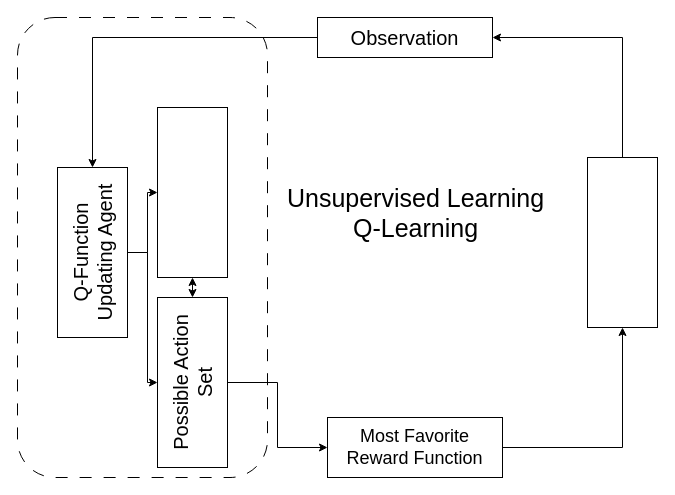
The diagram is 675 pixels wide and 495 high, and some of its shapes have lost their labels. Here are the shapes that lost their labels. From the top down, the centre of each, then its label:
At pixel 192 192: "Reward/Panelty Evaluation".
At pixel 622 242: "Environment".
